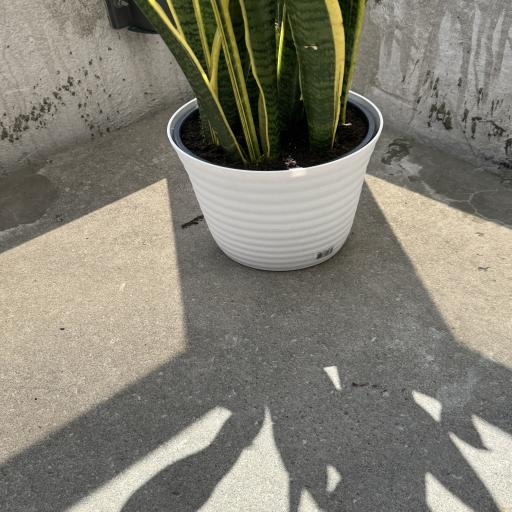Plant Pot: (167, 88, 383, 274)
